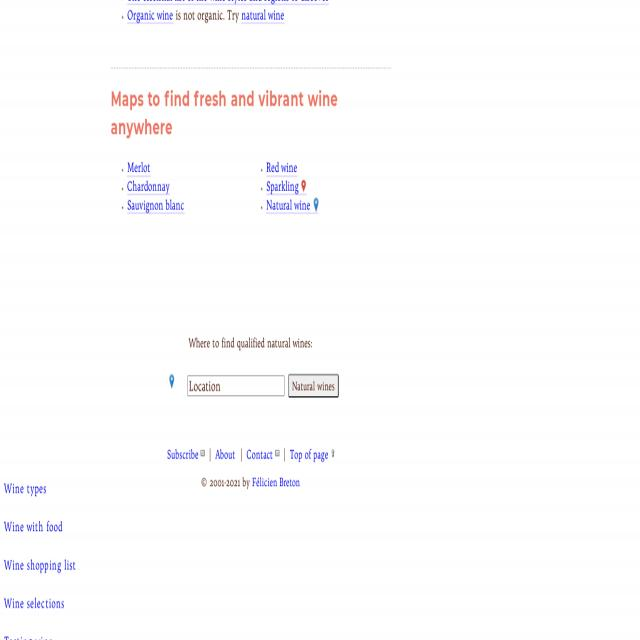button: (288, 373, 338, 397), (161, 349, 181, 388)
field: (186, 374, 284, 394)
